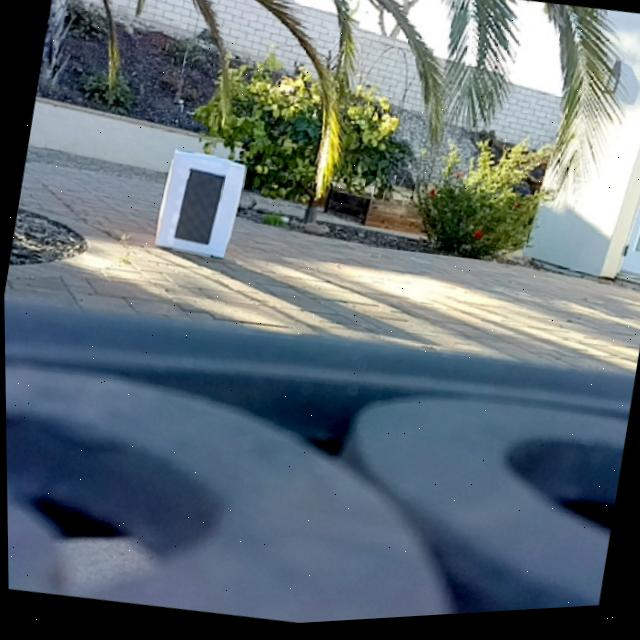led: (171, 165, 228, 253)
